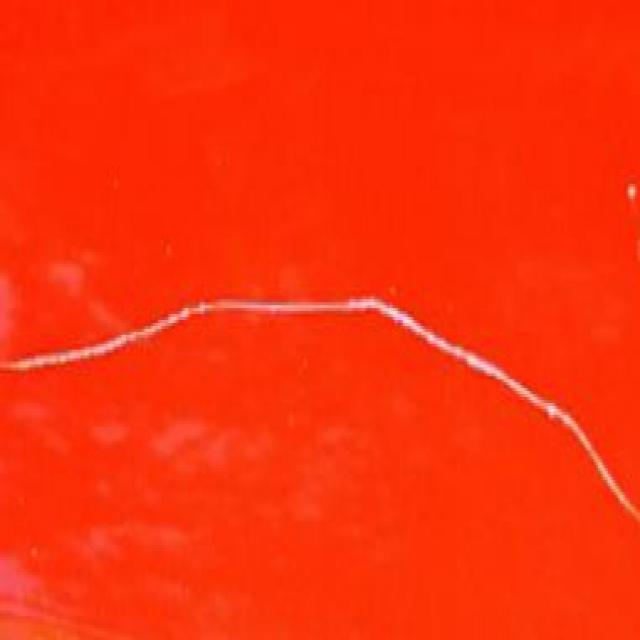scratch: (3, 292, 640, 532)
